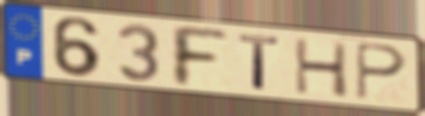3: (115, 21, 162, 84)
6: (49, 15, 104, 80)
F: (167, 23, 232, 90)
H: (291, 36, 351, 99)
P: (353, 40, 410, 102)
T: (236, 32, 283, 92)
